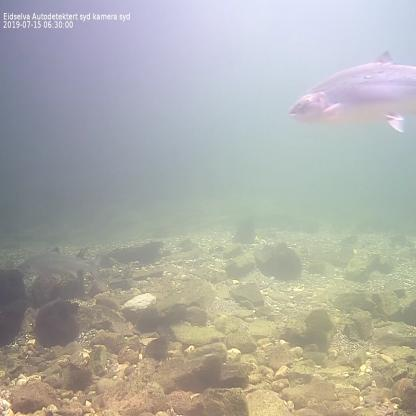salmon: (286, 46, 416, 136), (15, 243, 103, 286)
